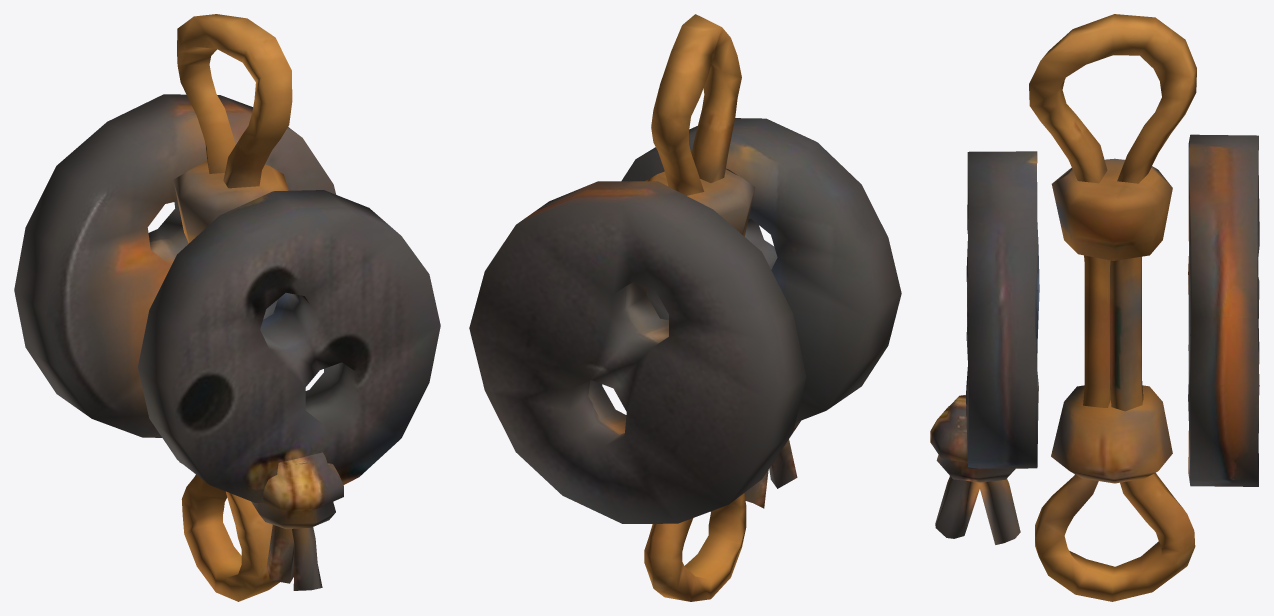
The model's file is deadeye.glb.
The picture shows the model from 3 angles, left to right: view 1: azimuth 30°, elevation 25°; view 2: azimuth 150°, elevation 25°; view 3: azimuth 270°, elevation 25°; orthographic projection.
Visible parts, largest first — view 1: deadeye; view 2: deadeye; view 3: deadeye.
Boxes of the visible parts, <box> form: deadeye: <box>14,14,440,601</box>; deadeye: <box>469,14,901,601</box>; deadeye: <box>930,14,1259,601</box>.
Bounding box in the file's own units: 0.196 × 0.35 × 0.1817.
1 material, 1 textured.
